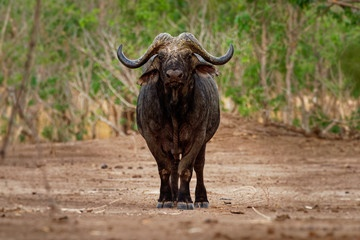buffalo: (116, 30, 235, 210)
